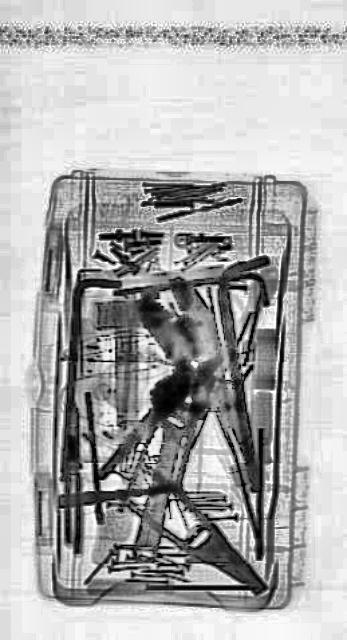Pliers: (123, 449, 270, 616)
Wrench: (117, 348, 203, 576)
